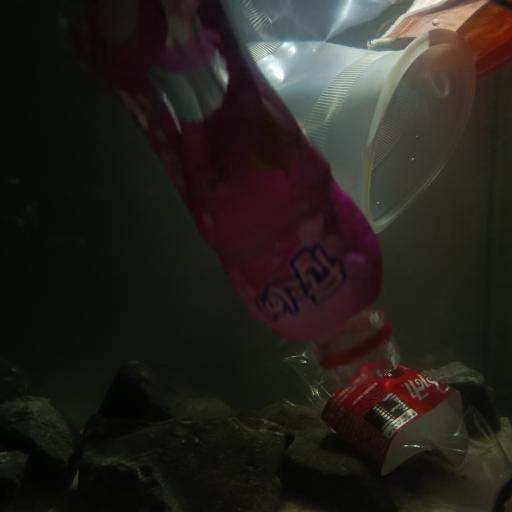mask: (372, 0, 512, 88)
plastic_bottle: (104, 28, 400, 374), (276, 332, 512, 510)
plastic_cup: (244, 26, 474, 224)
